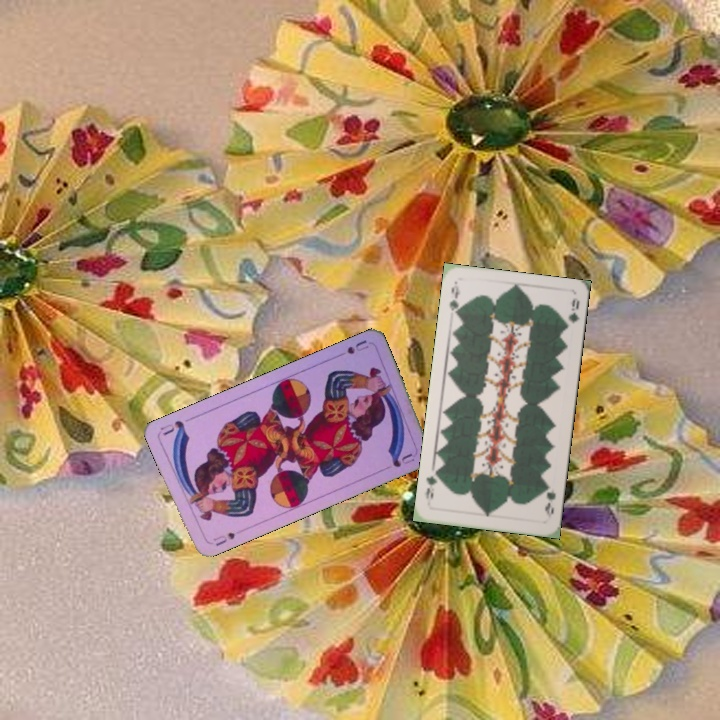G9: (541, 480, 558, 521), (445, 279, 462, 318)
SU: (205, 528, 238, 549), (343, 336, 371, 357)
